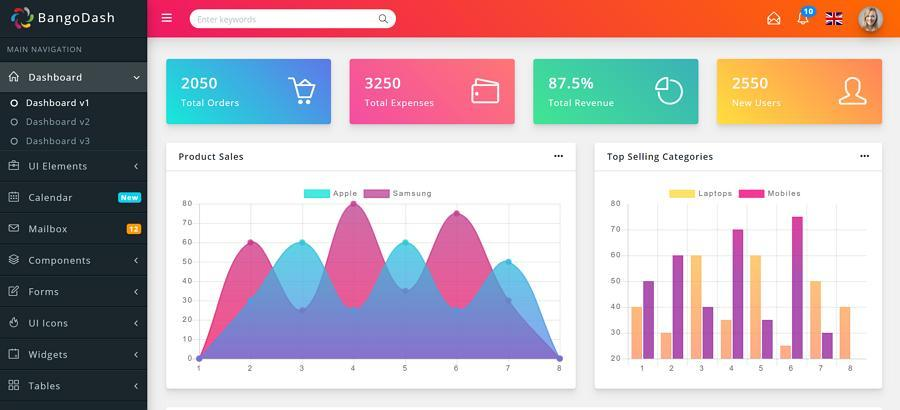dropdown: (2, 62, 148, 93)
icon: (793, 5, 820, 30), (765, 9, 785, 30), (6, 69, 24, 86), (160, 11, 178, 27), (8, 378, 23, 393), (8, 253, 22, 268), (7, 192, 22, 206), (8, 348, 22, 362), (8, 286, 22, 300), (8, 223, 22, 236), (8, 160, 22, 173), (9, 316, 21, 330)
input: (190, 10, 397, 29)
